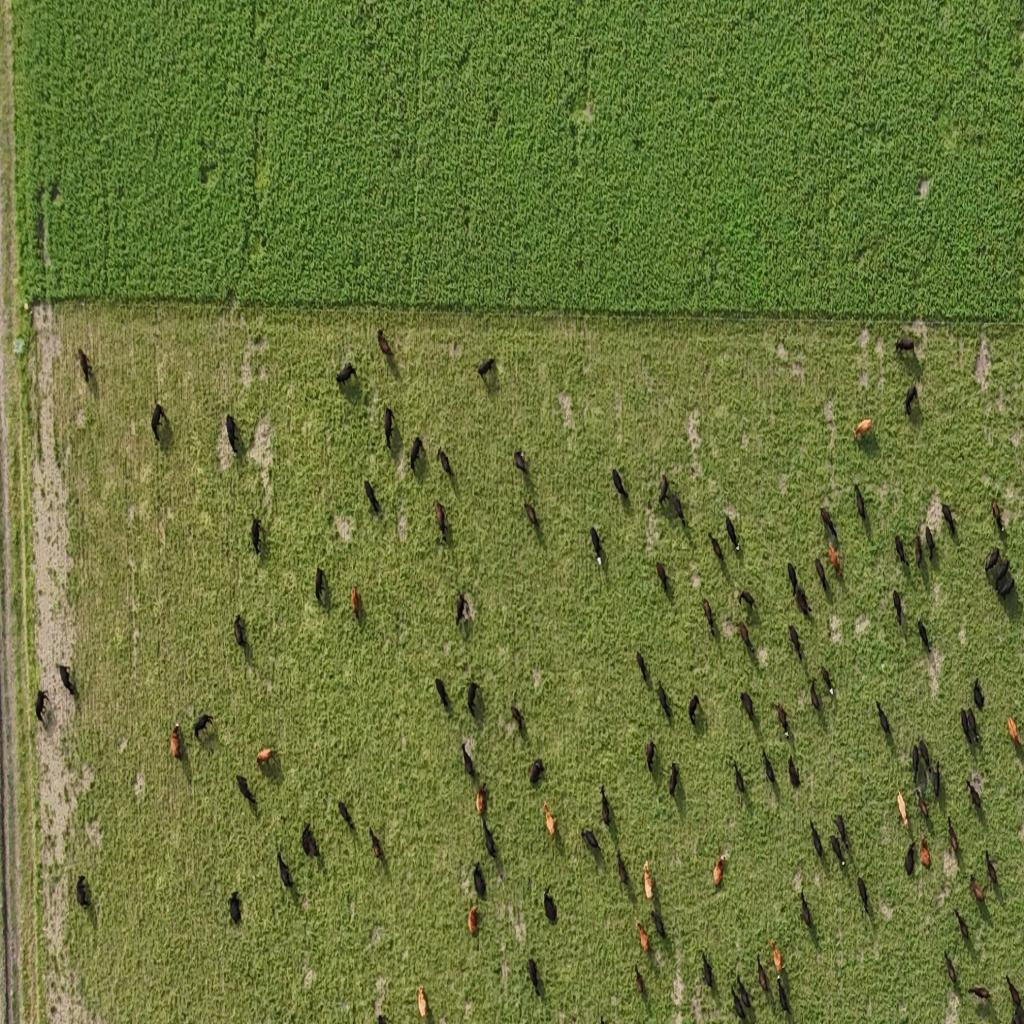cow: (1004, 975, 1022, 1016), (612, 467, 630, 506), (481, 816, 497, 859), (736, 974, 754, 1012), (151, 403, 168, 443), (277, 850, 294, 890), (236, 774, 257, 806), (820, 506, 838, 542), (876, 700, 893, 738), (590, 526, 606, 566), (834, 812, 850, 852), (829, 833, 846, 870), (777, 972, 791, 1016), (616, 850, 631, 891), (737, 620, 754, 656), (815, 558, 830, 598), (526, 957, 541, 997), (1006, 716, 1022, 752), (364, 478, 380, 514), (78, 347, 94, 383), (377, 327, 395, 359), (582, 827, 600, 859), (810, 819, 824, 860), (226, 414, 240, 454), (800, 891, 814, 931), (657, 682, 671, 722), (335, 362, 356, 388), (757, 953, 770, 995), (435, 501, 449, 540), (985, 848, 998, 890), (466, 679, 480, 718), (701, 951, 715, 990), (827, 544, 843, 578), (820, 665, 836, 699), (670, 492, 686, 526), (940, 502, 956, 536), (788, 624, 803, 660), (967, 776, 982, 812), (702, 597, 716, 635), (725, 514, 739, 552), (732, 760, 746, 798), (709, 534, 725, 567), (35, 689, 50, 724), (740, 690, 755, 725), (955, 908, 970, 943), (194, 714, 214, 740), (857, 875, 870, 915), (967, 706, 980, 746), (462, 740, 476, 777), (370, 826, 384, 863), (58, 663, 74, 695), (970, 873, 985, 907), (338, 800, 355, 830), (472, 862, 486, 898), (410, 436, 424, 472), (76, 875, 91, 908), (435, 677, 450, 710), (384, 404, 395, 449), (652, 907, 667, 940), (762, 748, 775, 786), (944, 948, 957, 986), (930, 760, 942, 801), (228, 891, 242, 926), (636, 651, 650, 686), (543, 800, 556, 837), (897, 790, 909, 830), (476, 356, 496, 380), (774, 703, 789, 735), (796, 586, 811, 618), (510, 704, 525, 736), (947, 815, 959, 855), (656, 561, 670, 595), (688, 695, 702, 729), (904, 384, 918, 418), (894, 534, 908, 568), (738, 590, 756, 616), (544, 888, 557, 924), (438, 448, 453, 479), (307, 829, 322, 860), (513, 448, 529, 477), (916, 788, 930, 821), (918, 618, 932, 651), (968, 984, 991, 1004), (170, 722, 182, 760), (854, 483, 866, 521), (924, 524, 936, 562), (919, 739, 931, 777), (960, 707, 972, 745), (995, 558, 1010, 588), (636, 922, 650, 954), (524, 501, 538, 533), (528, 758, 544, 786), (315, 566, 326, 606), (788, 754, 800, 790), (251, 516, 262, 555), (991, 499, 1004, 532), (771, 939, 783, 974), (600, 786, 610, 828), (787, 561, 799, 596), (985, 548, 1000, 576), (854, 418, 872, 441), (234, 614, 246, 648), (810, 680, 822, 714), (657, 473, 669, 507), (455, 592, 467, 626), (893, 590, 904, 627), (644, 860, 654, 900), (911, 742, 921, 782), (894, 337, 916, 355), (668, 762, 679, 798), (973, 678, 985, 711), (635, 964, 646, 1000), (904, 842, 915, 877), (712, 855, 724, 887), (256, 748, 277, 766), (920, 835, 931, 869), (351, 587, 362, 621), (417, 986, 428, 1019), (646, 740, 656, 776), (998, 579, 1016, 599), (914, 534, 924, 569), (301, 823, 310, 859), (468, 904, 478, 936), (476, 786, 486, 816), (376, 1014, 389, 1024)
